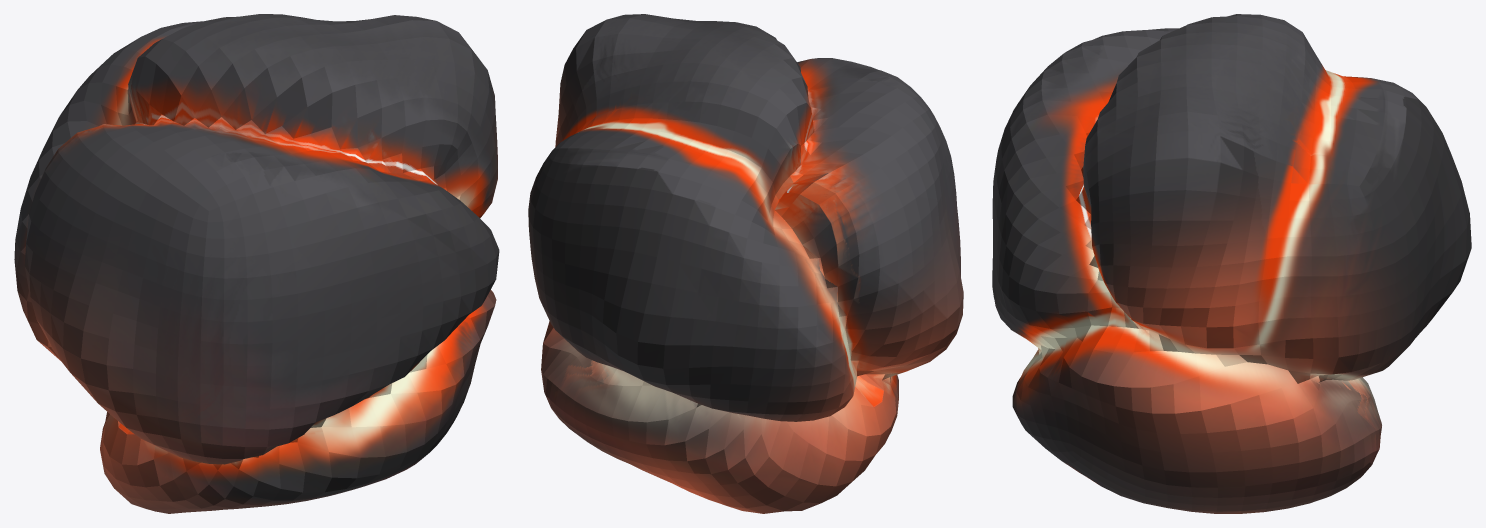
The model's file is _meteor.fbx.
3 renders of one model, left to right at view 1: azimuth 30°, elevation 25°; view 2: azimuth 150°, elevation 25°; view 3: azimuth 270°, elevation 25°, orthographic. The views are drawn at different scales.
Visible parts, largest first — view 1: Cube; view 2: Cube; view 3: Cube.
Part boxes in pixels (left/top/right/bottom): Cube: left=14, top=14, right=499, bottom=513; Cube: left=528, top=14, right=963, bottom=513; Cube: left=992, top=14, right=1471, bottom=513.
Size of the model in its own units: 149 by 163 by 150.
Materials: 1 (1 with a texture image).
